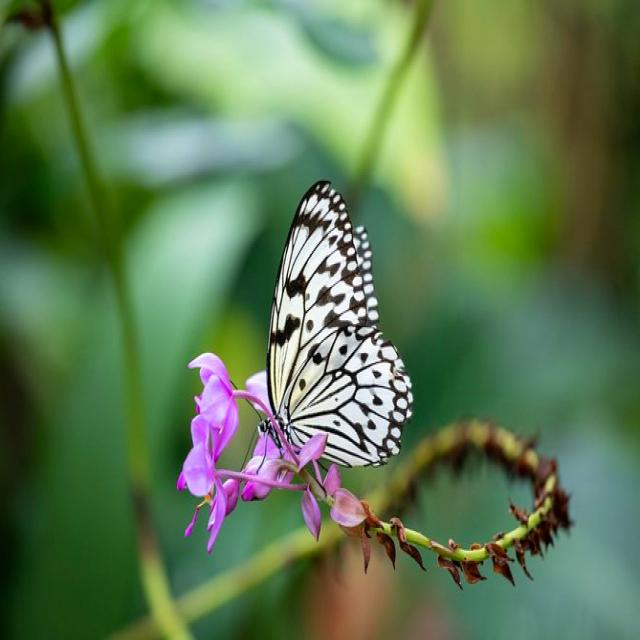butterfly: (266, 181, 413, 466)
